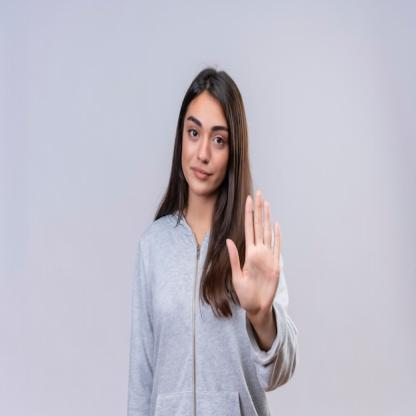stop: (224, 188, 284, 315)
